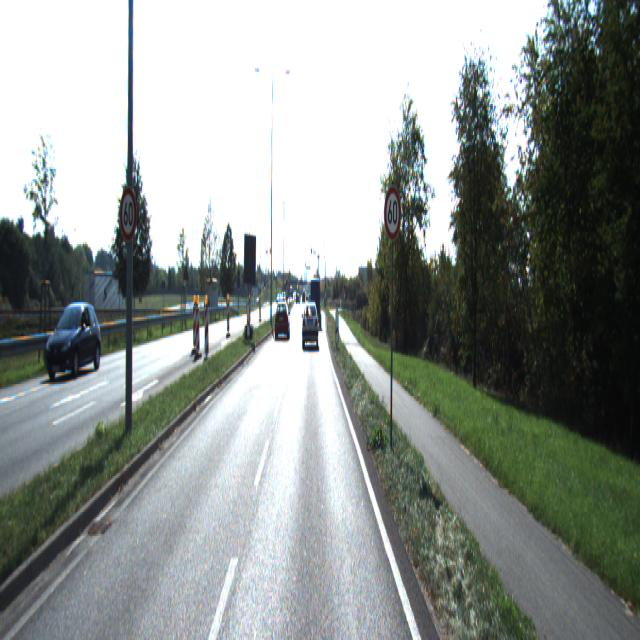Car: (46, 306, 101, 383), (302, 304, 318, 348), (274, 304, 290, 344)
Van: (310, 282, 321, 331)
